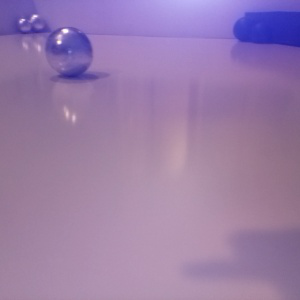alive_ball: (45, 27, 94, 77), (28, 14, 44, 32), (16, 18, 31, 33)
dead_ball: (233, 17, 256, 42), (249, 22, 270, 43)
